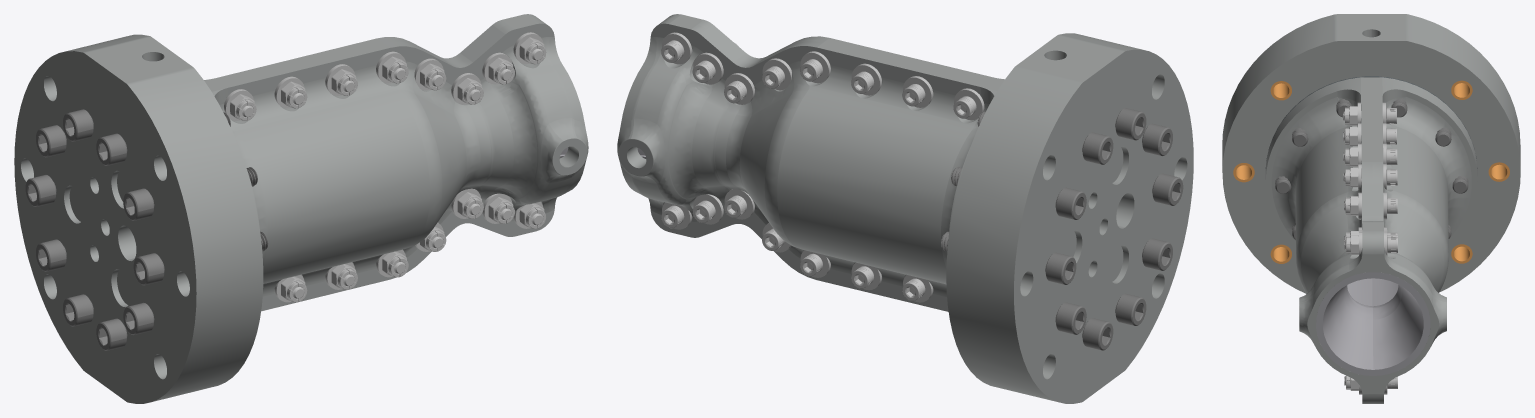
The model's file is chamber_3.glb.
3 renders of one model, left to right at view 1: azimuth 30°, elevation 25°; view 2: azimuth 150°, elevation 25°; view 3: azimuth 270°, elevation 25°, orthographic. The views are drawn at different scales.
Visible parts, largest first — view 1: empty_2; view 2: empty_2; view 3: empty_2.
Part boxes in pixels (<box>): empty_2: <box>14,14,588,403</box>; empty_2: <box>617,14,1193,403</box>; empty_2: <box>1222,14,1520,403</box>.
Size of the model in its own units: 261 by 171 by 176.
Materials: 1 (1 with a texture image).
